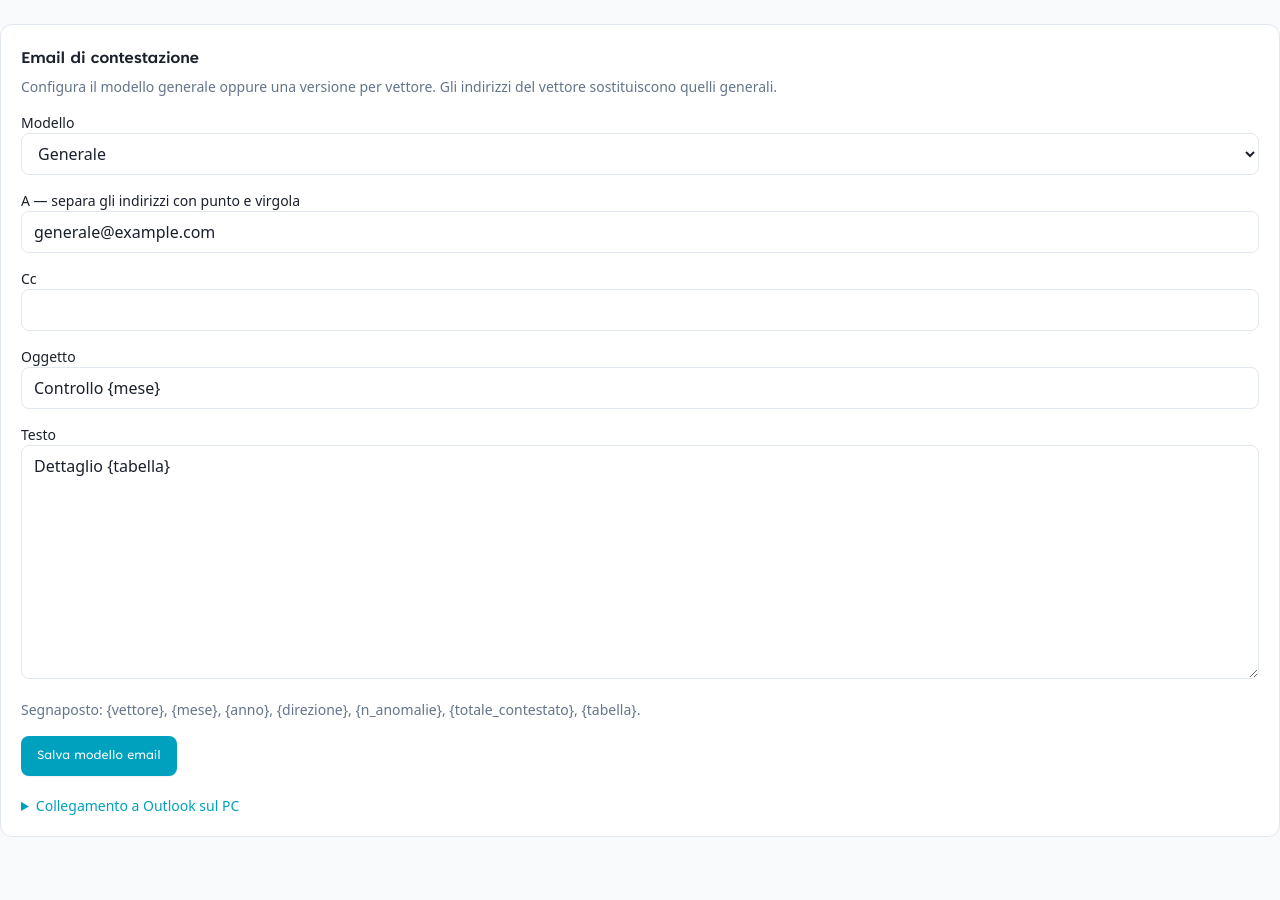
eredita il modello generale e salva indirizzi specifici mantenendo la conferma
Expected: the field labelled "Oggetto" holds "Controllo {mese}", x1=21 y1=367 x2=1259 y2=409
Select "GLS" in the dropdown labelled "Modello" at point(640, 154), box x1=21 y1=133 x2=1259 y2=175
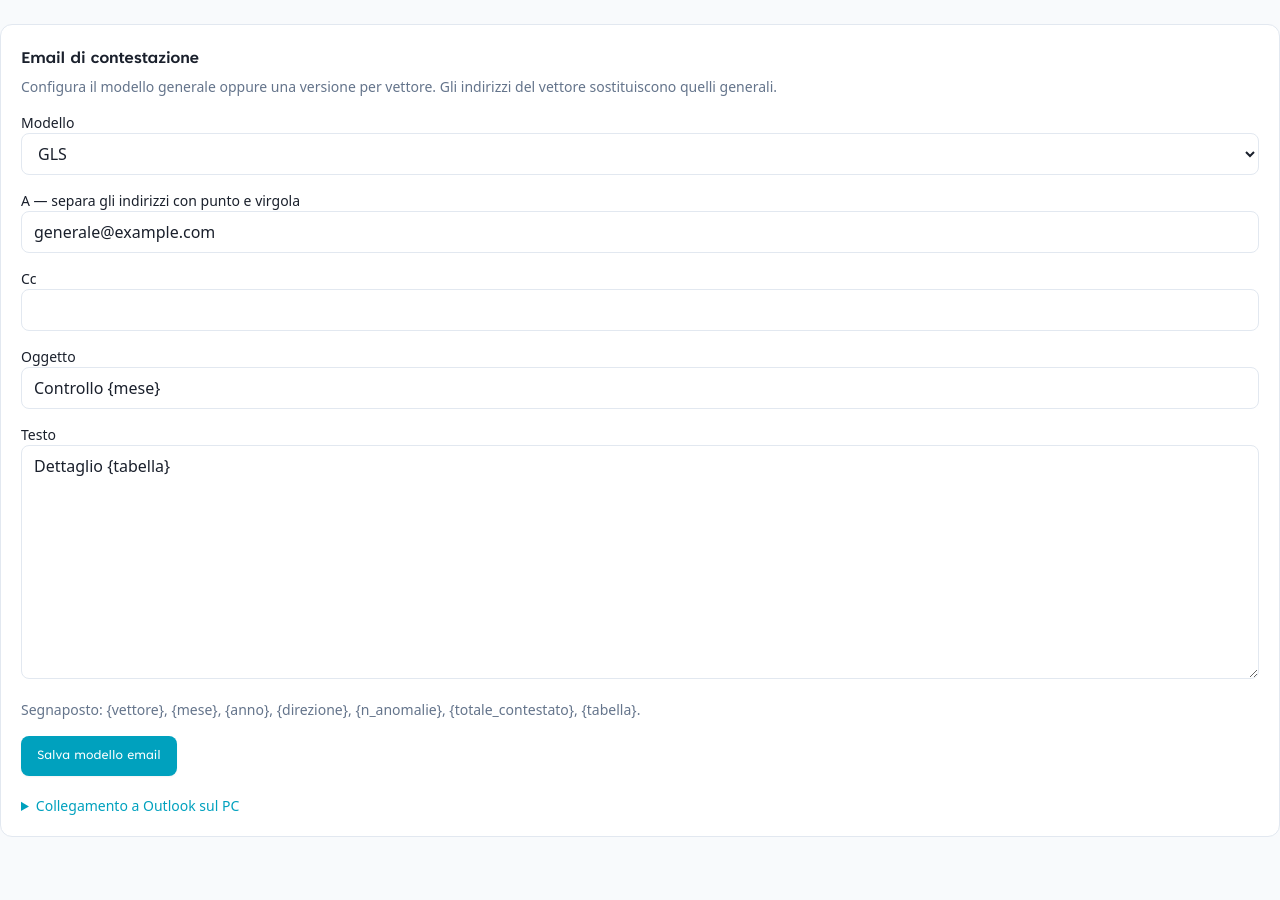
Expected: the text box labelled "Testo" holds "Dettaglio {tabella}", x1=21 y1=445 x2=1259 y2=679
Replace the text in the field labelled "A — separa gli indirizzi con punto e virgola" with "uno@example.com; due@example.com" at point(640, 232), box x1=21 y1=211 x2=1259 y2=253
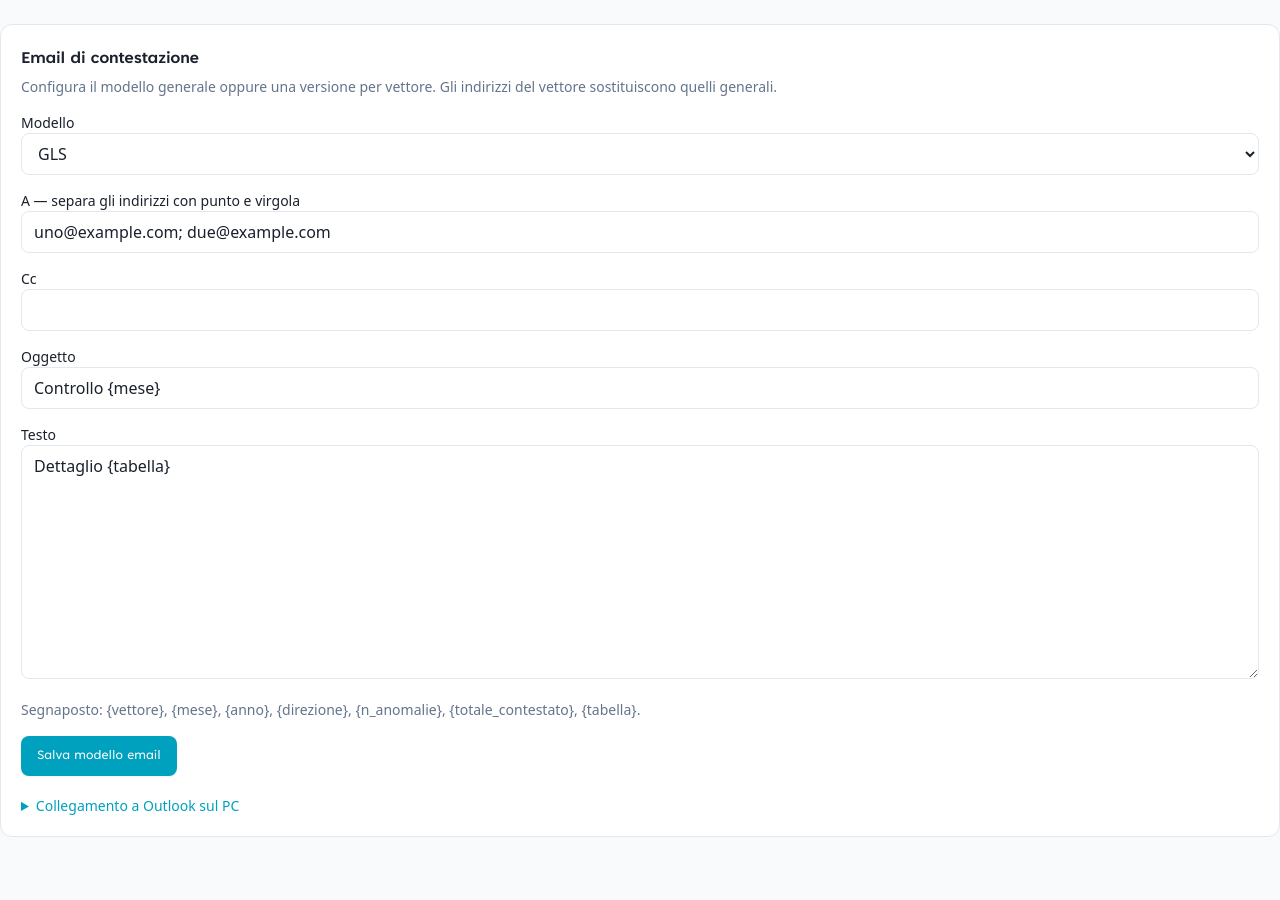
Click the button "Salva modello email".
click(99, 756)  # box x1=21 y1=736 x2=177 y2=776
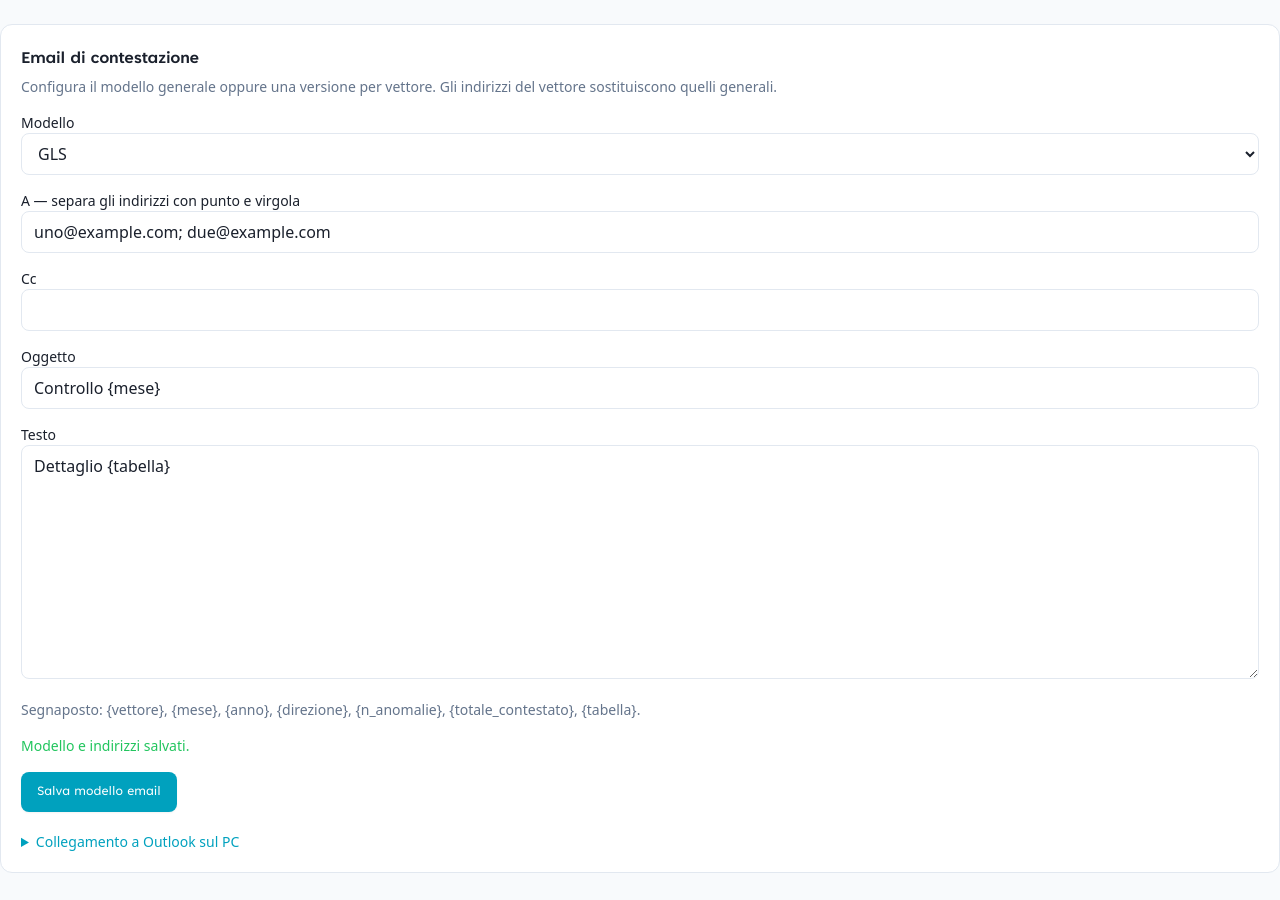
Expected: the message reads "Modello e indirizzi salvati.", x1=21 y1=736 x2=189 y2=755
